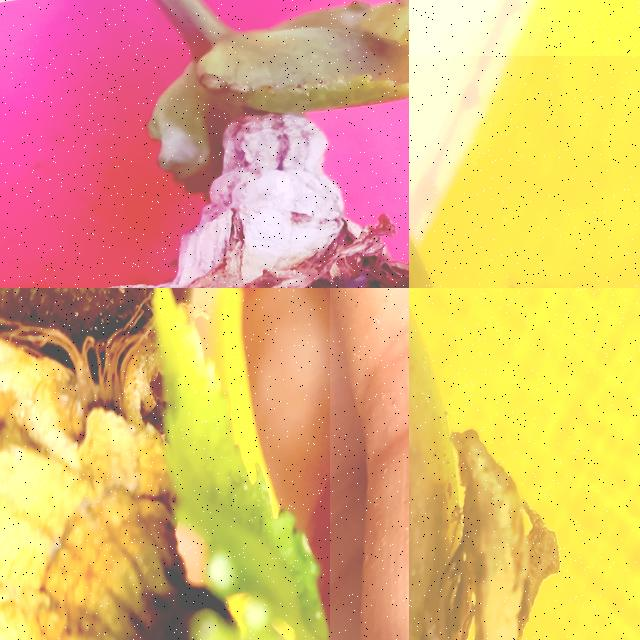Estado-1: (104, 0, 409, 288)
Estado-5: (409, 310, 555, 640)
